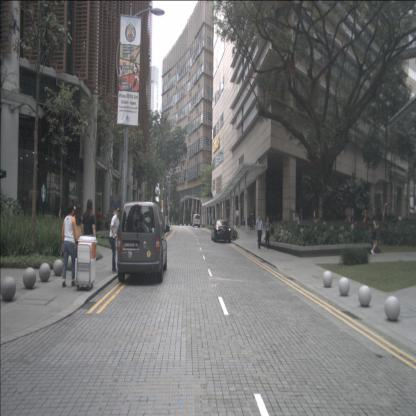human-pedestrian-adult: (81, 198, 97, 291), (61, 202, 76, 287), (72, 204, 84, 284), (110, 207, 121, 272), (370, 214, 380, 256), (264, 215, 271, 248), (256, 214, 262, 248), (58, 206, 64, 233), (96, 208, 102, 231), (234, 206, 240, 228), (350, 215, 355, 232), (344, 215, 348, 228), (347, 213, 350, 229), (168, 219, 170, 228), (171, 216, 173, 224)
vehicle-car: (117, 202, 167, 283), (211, 220, 232, 242), (192, 214, 201, 227)
